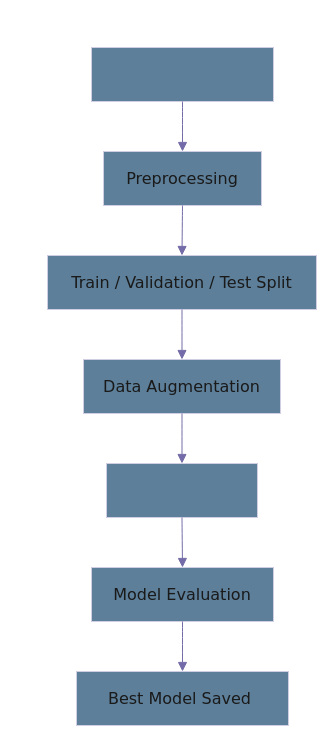
The diagram is 334 pixels wide and 743 high, and some of its shapes have lost their labels. The shapes that lost their labels are listed below. From the top down, each one's centre as x and y in pixels, then its label:
At point (182, 74): "TrashNet Dataset".
At point (182, 490): "CNN Training".
